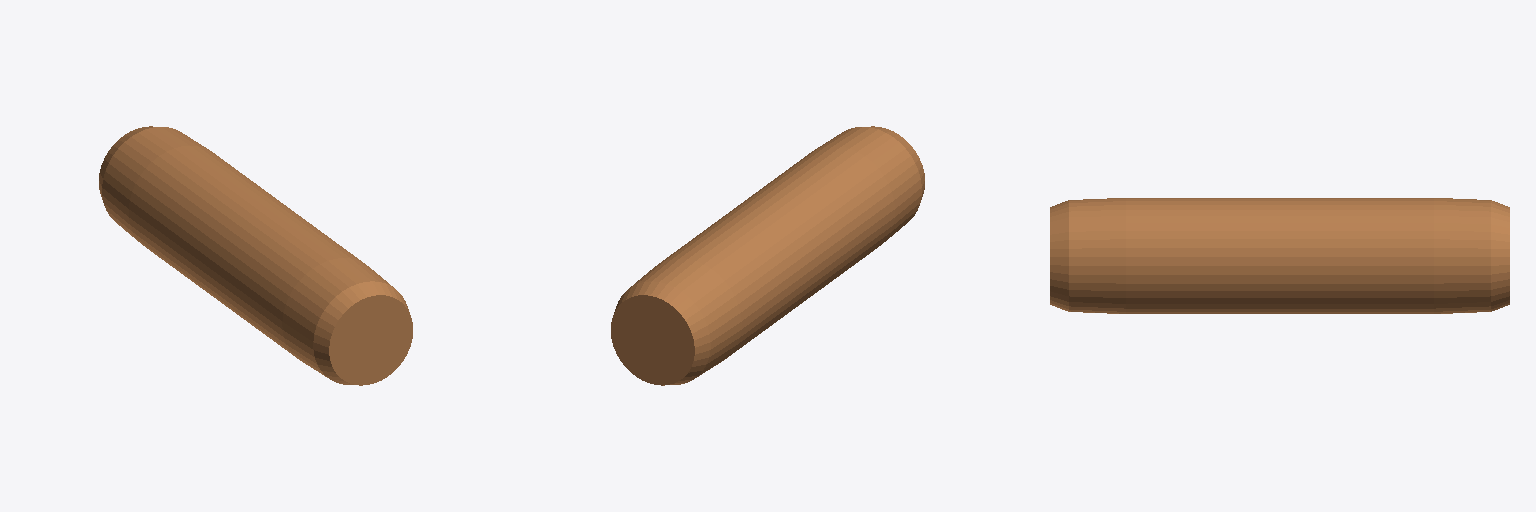
The model's file is GearAxis.obj.
The picture shows the model from 3 angles: view 1: azimuth 30°, elevation 25°; view 2: azimuth 150°, elevation 25°; view 3: azimuth 270°, elevation 25°; orthographic projection.
Visible parts, largest first — view 1: WheelSmallPivot1 WheelSmall1 Gear1 IslandCloudFactory1 Archipela; view 2: WheelSmallPivot1 WheelSmall1 Gear1 IslandCloudFactory1 Archipela; view 3: WheelSmallPivot1 WheelSmall1 Gear1 IslandCloudFactory1 Archipela.
Boxes of the visible parts, x1,y1,x2,y2 form: WheelSmallPivot1 WheelSmall1 Gear1 IslandCloudFactory1 Archipela: [99, 126, 412, 385]; WheelSmallPivot1 WheelSmall1 Gear1 IslandCloudFactory1 Archipela: [611, 126, 924, 385]; WheelSmallPivot1 WheelSmall1 Gear1 IslandCloudFactory1 Archipela: [1050, 198, 1509, 313].
Bounding box in the file's own units: 4.04 × 4.04 × 16.01.